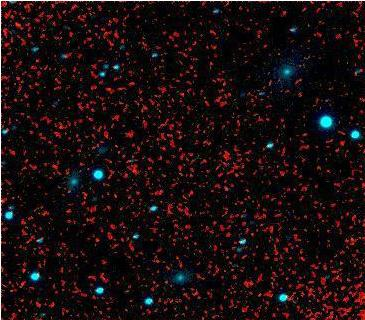star: (82, 225, 112, 255)
